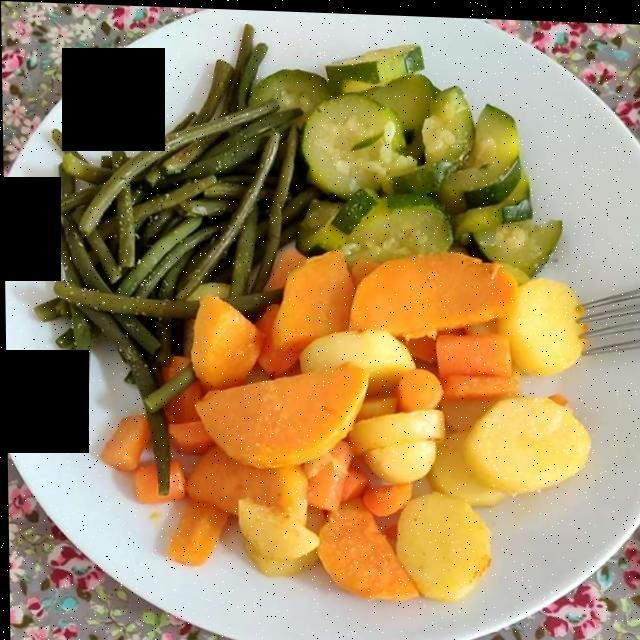green-bean: (12, 25, 311, 485)
potatoes: (228, 269, 588, 590)
sweet-potato: (182, 246, 523, 594)
zucchini: (262, 42, 574, 273)
